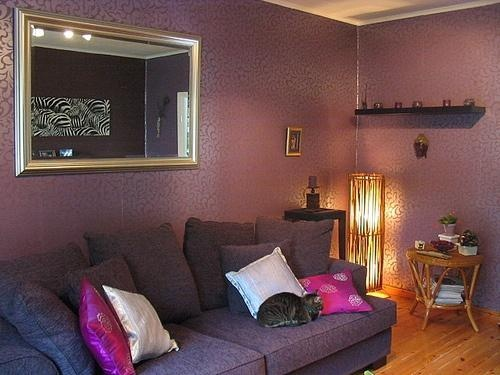pottedplant: (433, 213, 465, 236)
sofa: (1, 216, 399, 375)
